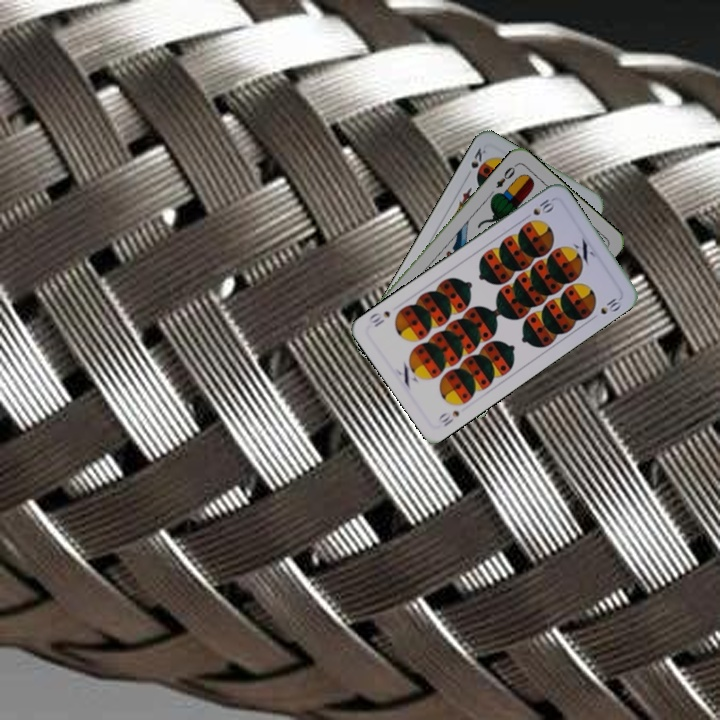EO: (492, 160, 519, 191)
S10: (520, 195, 557, 222), (434, 406, 462, 429)
SK: (462, 143, 489, 181)
